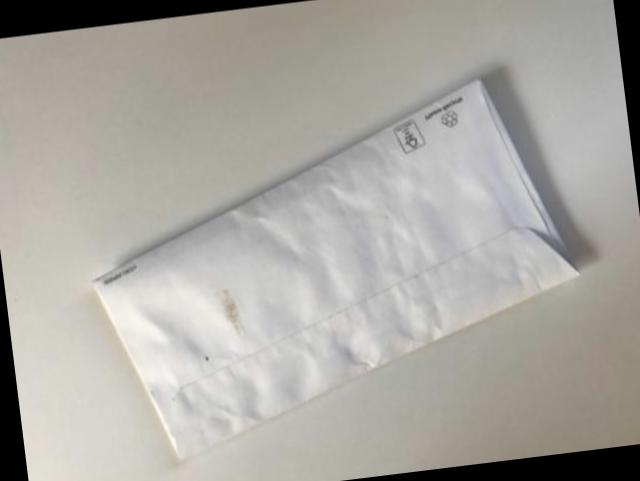cardboard paper: (91, 82, 574, 460)
